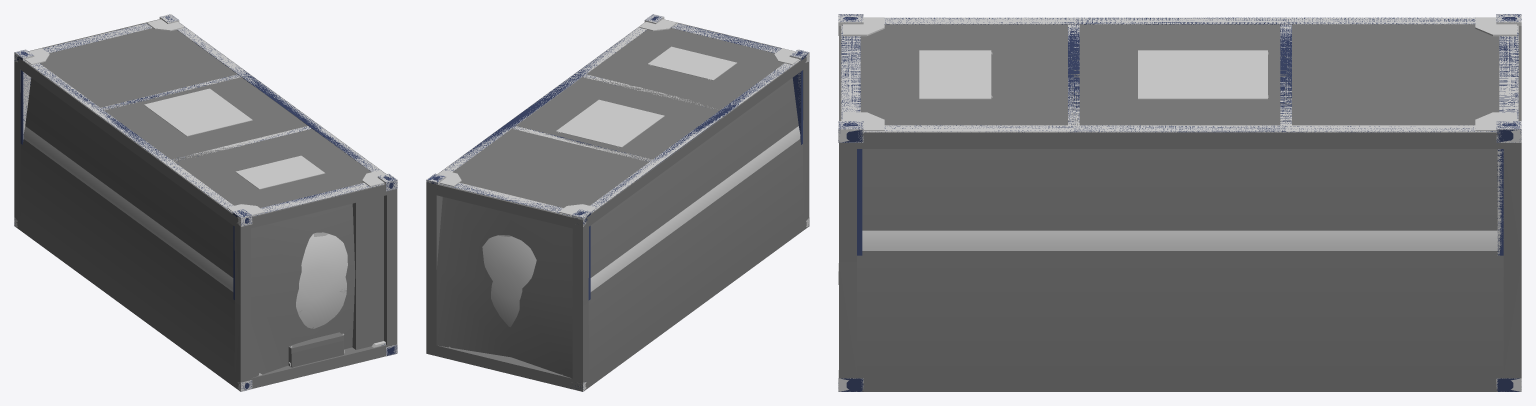
Rendered from s_container_tank.dae.
3 views of the same model, side by side, from view 1: azimuth 30°, elevation 25°; view 2: azimuth 150°, elevation 25°; view 3: azimuth 270°, elevation 25° (orthographic). The views are drawn at different scales.
Parts seen in each view (by area): view 1: Colmesh_s_container_tank-1, s_container_tank_L800, s_container_tank_L60, s_container_tank_L500, s_container_tank_L30; view 2: Colmesh_s_container_tank-1, s_container_tank_L800, s_container_tank_L500, s_container_tank_L60, s_container_tank_L30; view 3: Colmesh_s_container_tank-1, s_container_tank_L800, s_container_tank_L500, s_container_tank_L60, s_container_tank_L30.
Part boxes in pixels (<box>): Colmesh_s_container_tank-1: <box>14,19,397,390</box>; s_container_tank_L800: <box>14,14,397,391</box>; s_container_tank_L60: <box>14,14,397,391</box>; s_container_tank_L500: <box>24,27,379,290</box>; s_container_tank_L30: <box>16,50,390,345</box>; Colmesh_s_container_tank-1: <box>426,19,809,391</box>; s_container_tank_L800: <box>426,14,809,391</box>; s_container_tank_L500: <box>443,23,799,290</box>; s_container_tank_L60: <box>426,14,808,391</box>; s_container_tank_L30: <box>428,15,805,300</box>; Colmesh_s_container_tank-1: <box>839,24,1521,391</box>; s_container_tank_L800: <box>838,14,1521,391</box>; s_container_tank_L500: <box>862,17,1497,250</box>; s_container_tank_L60: <box>838,14,1521,391</box>; s_container_tank_L30: <box>840,14,1519,255</box>.
Bounding box in the file's own units: 2.44 × 6.11 × 2.59.
